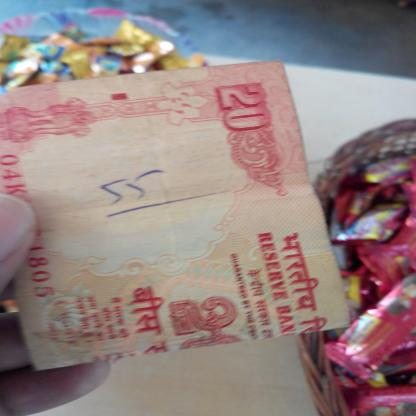Old20Front: (0, 61, 352, 372)
